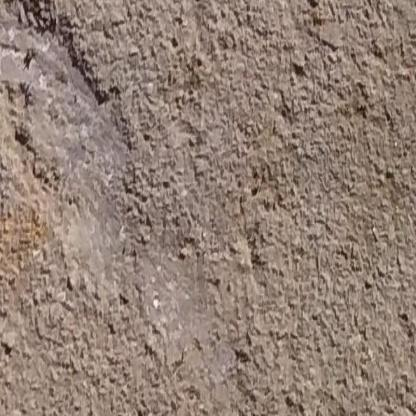Cracks: (0, 0, 140, 144)
